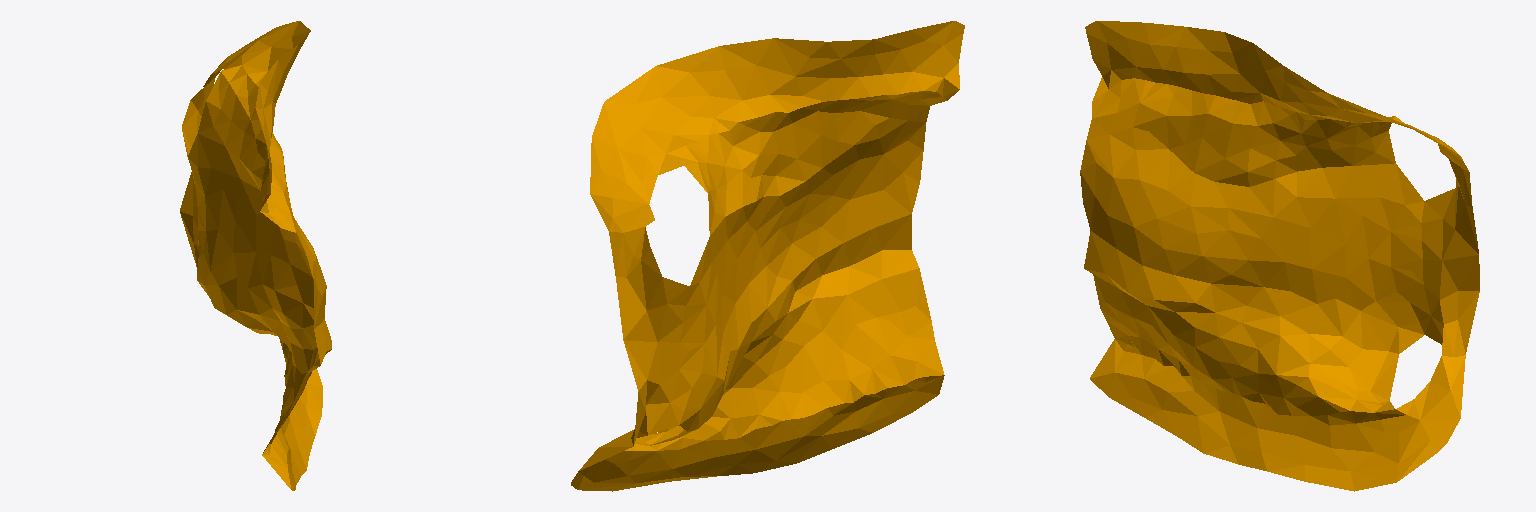
The robot description file, URDF, robot "init":
<?xml version='1.0' encoding='utf-8'?>
<robot name="init">
<link name="link_0"><inertial><mass value="1.0" /><origin rpy="0 0 0" xyz="0.000000 0.000000 0.000000" /><inertia ixx="1.0" ixy="0.0" ixz="0.0" iyy="1.0" iyz="0.0" izz="1.0" /></inertial><visual><origin rpy="0 0 0" xyz="0.000000 0.000000 0.000000" /><geometry><mesh filename="./clothHuman/cloth/2314.obj" /></geometry></visual><collision><origin rpy="0 0 0" xyz="0.000000 0.000000 0.000000" /><geometry><mesh filename="./clothHuman/cloth/2314.obj" /></geometry></collision></link></robot>

--- What the picture shows (computed from the rendered views, not written in the file) ---
3 views of the same robot in one strip: view 1: azimuth 30°, elevation 25°; view 2: azimuth 150°, elevation 25°; view 3: azimuth 270°, elevation 25° (orthographic).
Model init with 1 links and 0 joints (none), rooted at link_0, posed all joints at 0.
Links seen in each view (by area): view 1: link_0; view 2: link_0; view 3: link_0.
Boxes of the visible links, left/top/right/bottom form: link_0: left=180, top=21, right=331, bottom=490; link_0: left=571, top=21, right=964, bottom=491; link_0: left=1080, top=21, right=1479, bottom=491.
Bounding box of the posed robot: 2.12 × 3.63 × 4.1 m (x, y, z).
Meshes: 1 distinct files referenced, 1 mesh visuals loaded (1 OBJ).